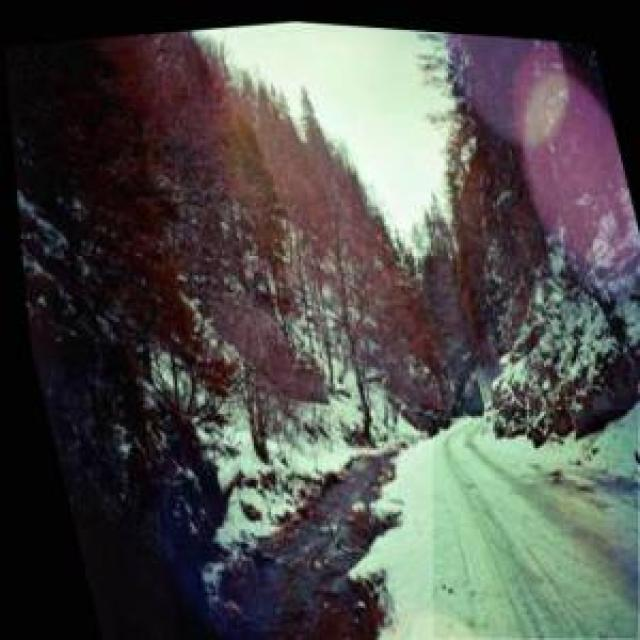ice-road: (434, 411, 640, 638)
